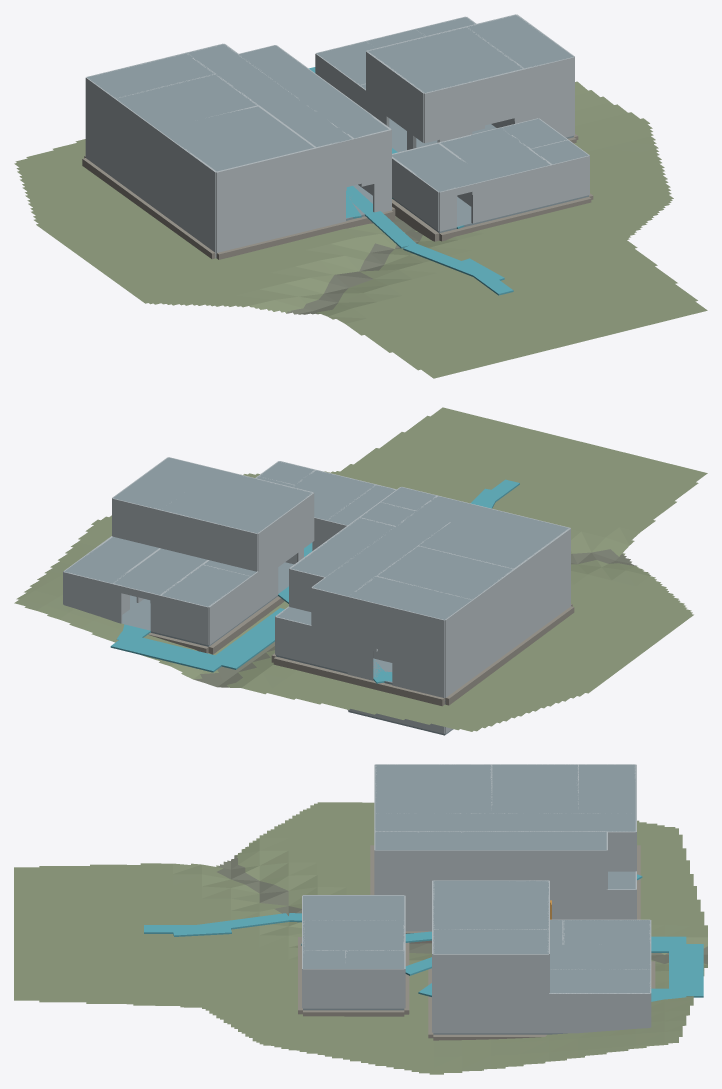
File: open-circulation.glb
3 renders of one model, top to bottom at view 1: azimuth 30°, elevation 25°; view 2: azimuth 150°, elevation 25°; view 3: azimuth 270°, elevation 25°, orthographic. The views are drawn at different scales.
Visible parts, largest first — view 1: Saved editor macroterrain FARMHOUSE, Ceiling cap hayloft, Ceiling cap parents, Ceiling cap upper-hall, Ceiling cap children, Wall parents S, Wall hayloft S, Wall parlour S, Ceiling cap repair, Ceiling cap linen, Ceiling cap loft-landing, Ceiling cap upper-stair (+31 smaller); view 2: Saved editor macroterrain FARMHOUSE, Ceiling cap hayloft, Ceiling cap parents, Ceiling cap upper-hall, Ceiling cap children, Wall hayloft N, Wall linen N, Wall cleaner N, Ceiling cap loft-landing, Ceiling cap linen, Ceiling cap upper-stair, Wall hayloft W (+30 smaller); view 3: Saved editor macroterrain FARMHOUSE, Ceiling cap parents, Ceiling cap hayloft, Wall upper-stair E, Ceiling cap upper-hall, Wall loft-stair E, Wall loft-landing E, Ceiling cap children, Wall equipment E, Ceiling cap repair, Ceiling cap linen, Ceiling cap loft-landing (+22 smaller).
Boxes of the visible parts, x1,y1,x2,y2 form: Saved editor macroterrain FARMHOUSE: (14, 81, 707, 378); Ceiling cap hayloft: (367, 27, 522, 92); Ceiling cap parents: (159, 106, 314, 171); Ceiling cap upper-hall: (187, 44, 351, 146); Ceiling cap children: (116, 74, 256, 129); Wall parents S: (216, 147, 316, 211); Wall hayloft S: (424, 68, 524, 132); Wall parlour S: (216, 187, 316, 250); Ceiling cap repair: (440, 128, 549, 179); Ceiling cap linen: (87, 53, 214, 98); Ceiling cap loft-landing: (467, 15, 573, 68); Ceiling cap upper-stair: (239, 45, 346, 106); Saved editor macroterrain FARMHOUSE: (14, 407, 707, 731); Ceiling cap hayloft: (161, 469, 312, 533); Ceiling cap parents: (419, 505, 569, 568); Ceiling cap upper-hall: (313, 496, 473, 596); Ceiling cap children: (376, 546, 513, 599); Wall hayloft N: (160, 510, 257, 571); Wall linen N: (347, 596, 444, 657); Wall cleaner N: (275, 616, 347, 672); Ceiling cap loft-landing: (113, 457, 216, 509); Ceiling cap linen: (348, 576, 471, 619); Ceiling cap upper-stair: (290, 517, 395, 577); Wall hayloft W: (257, 493, 314, 571); Saved editor macroterrain FARMHOUSE: (14, 802, 707, 1074); Ceiling cap parents: (375, 764, 490, 813); Ceiling cap hayloft: (433, 880, 548, 929); Wall upper-stair E: (462, 850, 606, 889); Ceiling cap upper-hall: (375, 813, 635, 831); Wall loft-stair E: (433, 994, 548, 1033); Wall loft-landing E: (433, 954, 548, 993); Ceiling cap children: (491, 764, 577, 813); Wall equipment E: (549, 993, 650, 1033); Ceiling cap repair: (303, 920, 404, 950); Ceiling cap linen: (578, 764, 635, 813); Ceiling cap loft-landing: (433, 929, 548, 953).
Bounding box in the file's own units: 45 × 9.16 × 48.
